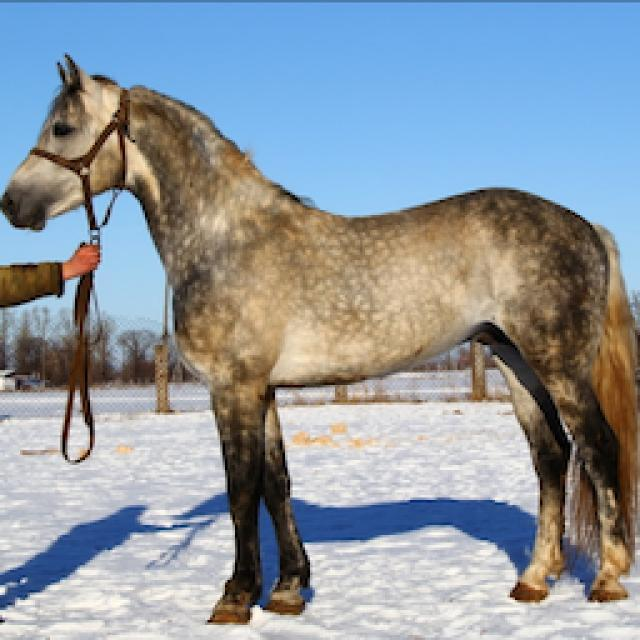Horse: (0, 48, 638, 630)
